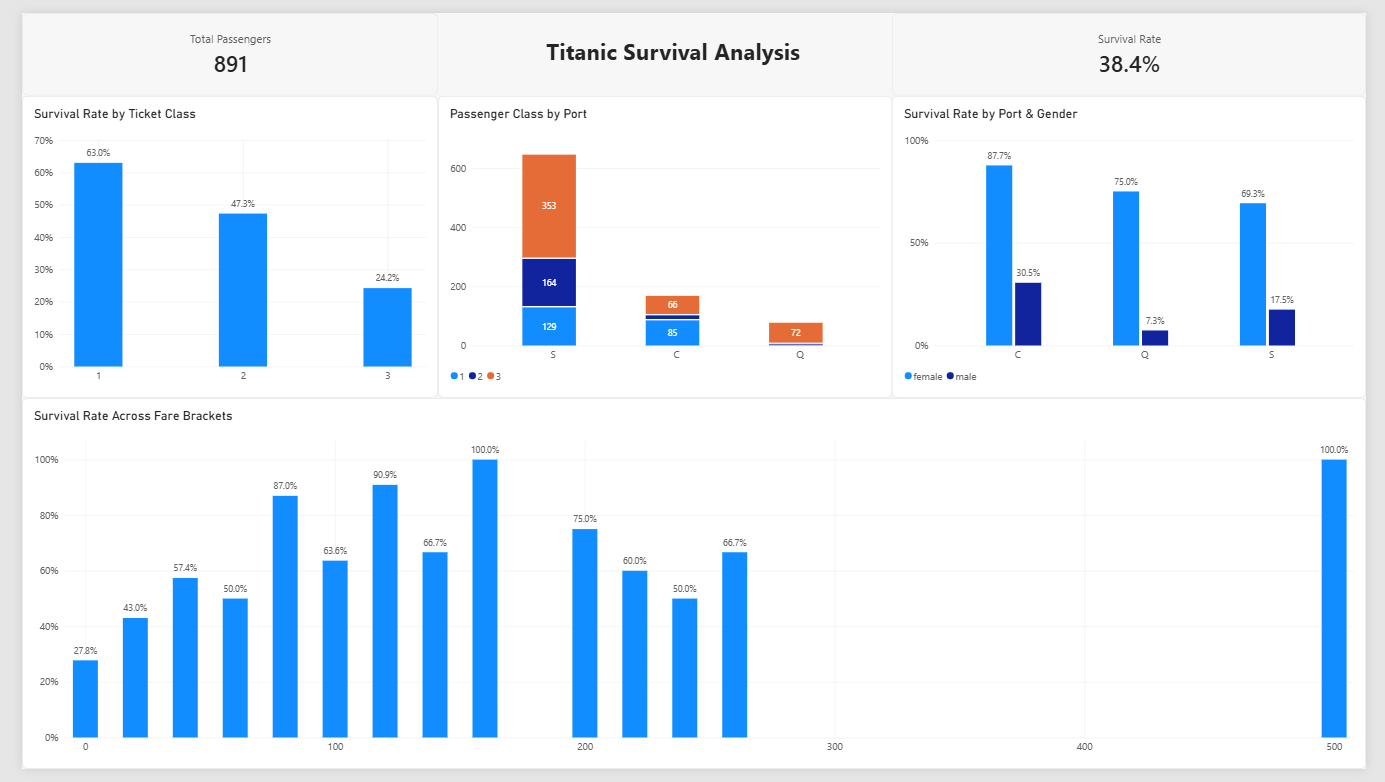

The dashboard page shown, as its layout file describes it:
{"tool":"powerbi","page":{"name":"Page 1","canvas":[1920,1080],"ordinal":0},"visuals":[{"type":"clusteredColumnChart","title":"Survival Rate by Ticket Class","fields":{"Category":["Table 1 (Titanic-Dataset).Pclass"],"Y":["Table 1 (Titanic-Dataset).Survival Rate"]},"box":[0,118.6,594.3,431.4],"z":0},{"type":"clusteredColumnChart","title":"Survival Rate Across Fare Brackets","fields":{"Category":["Table 1 (Titanic-Dataset).Fare  (bins)"],"Y":["Table 1 (Titanic-Dataset).Survival Rate"]},"box":[0,550,1920,530],"z":1000},{"type":"columnChart","title":"Passenger Class by Port","fields":{"Category":["Table 1 (Titanic-Dataset).Embarked"],"Series":["Table 1 (Titanic-Dataset).Pclass"],"Y":["CountNonNull(Table 1 (Titanic-Dataset).PassengerId)"]},"box":[594.3,118.6,648.6,431.4],"z":2000},{"type":"clusteredColumnChart","title":"Survival Rate by Port & Gender","fields":{"Category":["Table 1 (Titanic-Dataset).Embarked"],"Series":["Table 1 (Titanic-Dataset).Sex"],"Y":["Table 1 (Titanic-Dataset).Survival Rate"]},"box":[1242.9,118.6,677.1,431.4],"z":3000},{"type":"textbox","box":[740,31.4,371.4,62.9],"z":4000},{"type":"cardVisual","fields":{"Data":["Table 1 (Titanic-Dataset).Total Passengers"]},"box":[0,0,594.3,118.6],"z":5000},{"type":"cardVisual","fields":{"Data":["Table 1 (Titanic-Dataset).Survival Rate"]},"box":[1242.9,0,677.1,118.6],"z":6000}]}

Visuals, with their boxes in screenshot pixels (x1, y1, x2, y2), scaled from the page's 1920x1080 canvas onto the 1385x782 screenshot:
"Survival Rate by Ticket Class" clusteredColumnChart: locate(0, 86, 429, 398)
"Survival Rate Across Fare Brackets" clusteredColumnChart: locate(0, 398, 1384, 781)
"Passenger Class by Port" columnChart: locate(429, 86, 897, 398)
"Survival Rate by Port & Gender" clusteredColumnChart: locate(897, 86, 1384, 398)
textbox: locate(534, 23, 802, 68)
cardVisual - Table 1 (Titanic-Dataset).Total Passengers: locate(0, 0, 429, 86)
cardVisual - Table 1 (Titanic-Dataset).Survival Rate: locate(897, 0, 1384, 86)
